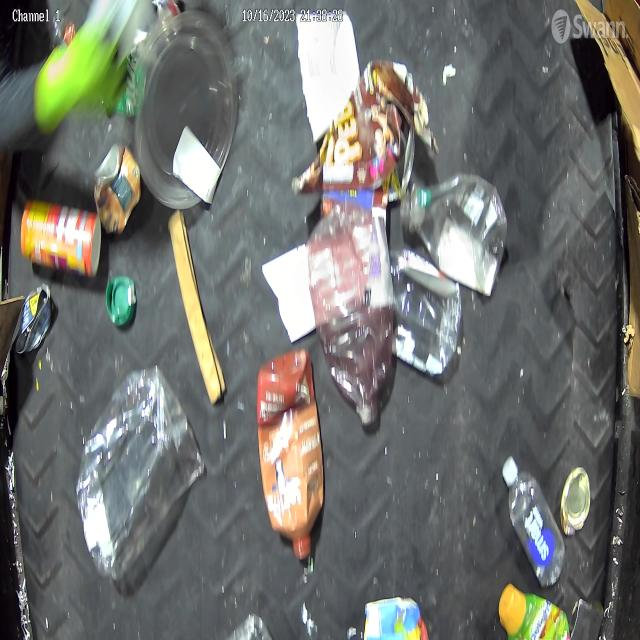can: (19, 198, 102, 279), (92, 140, 142, 236), (15, 280, 55, 355), (560, 465, 592, 538)
non_white_jug: (257, 346, 325, 560)
plastic_bottle: (502, 454, 566, 588)
